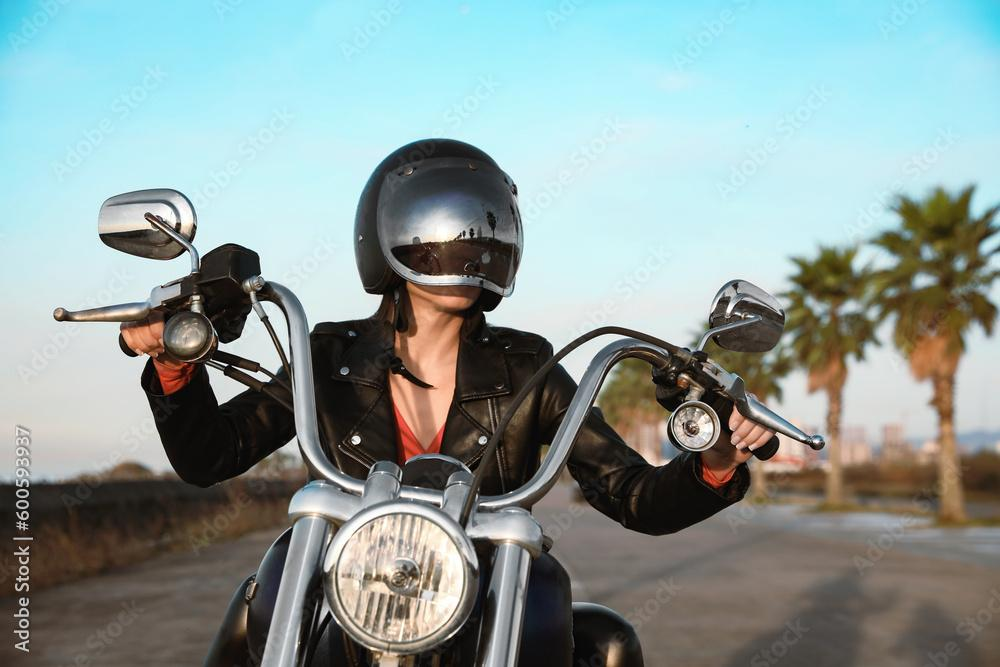helmet: (352, 136, 525, 335)
